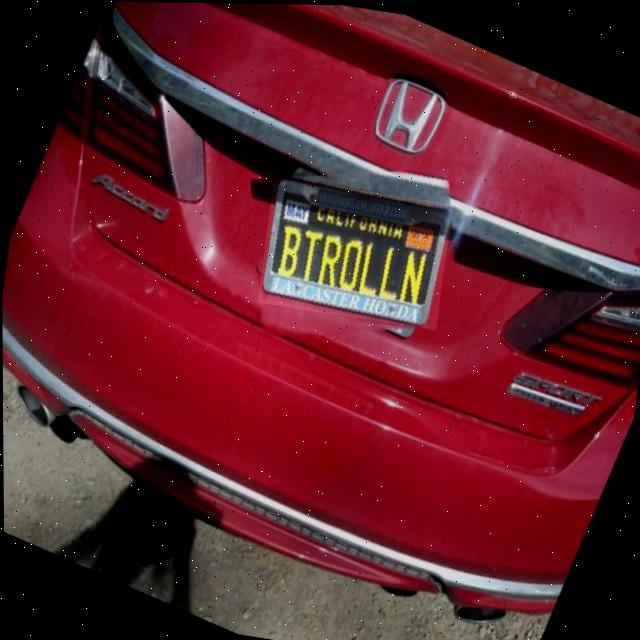LicensePlate: (259, 177, 451, 327)
